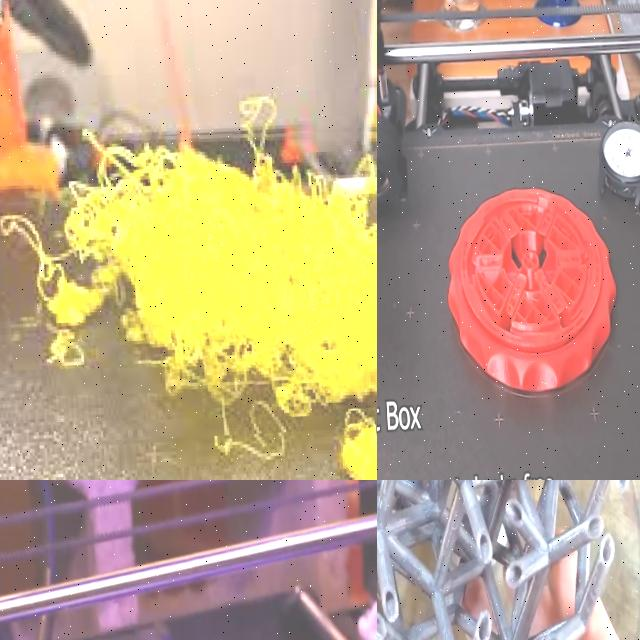spaghetti: (20, 138, 377, 430), (337, 408, 377, 480)
